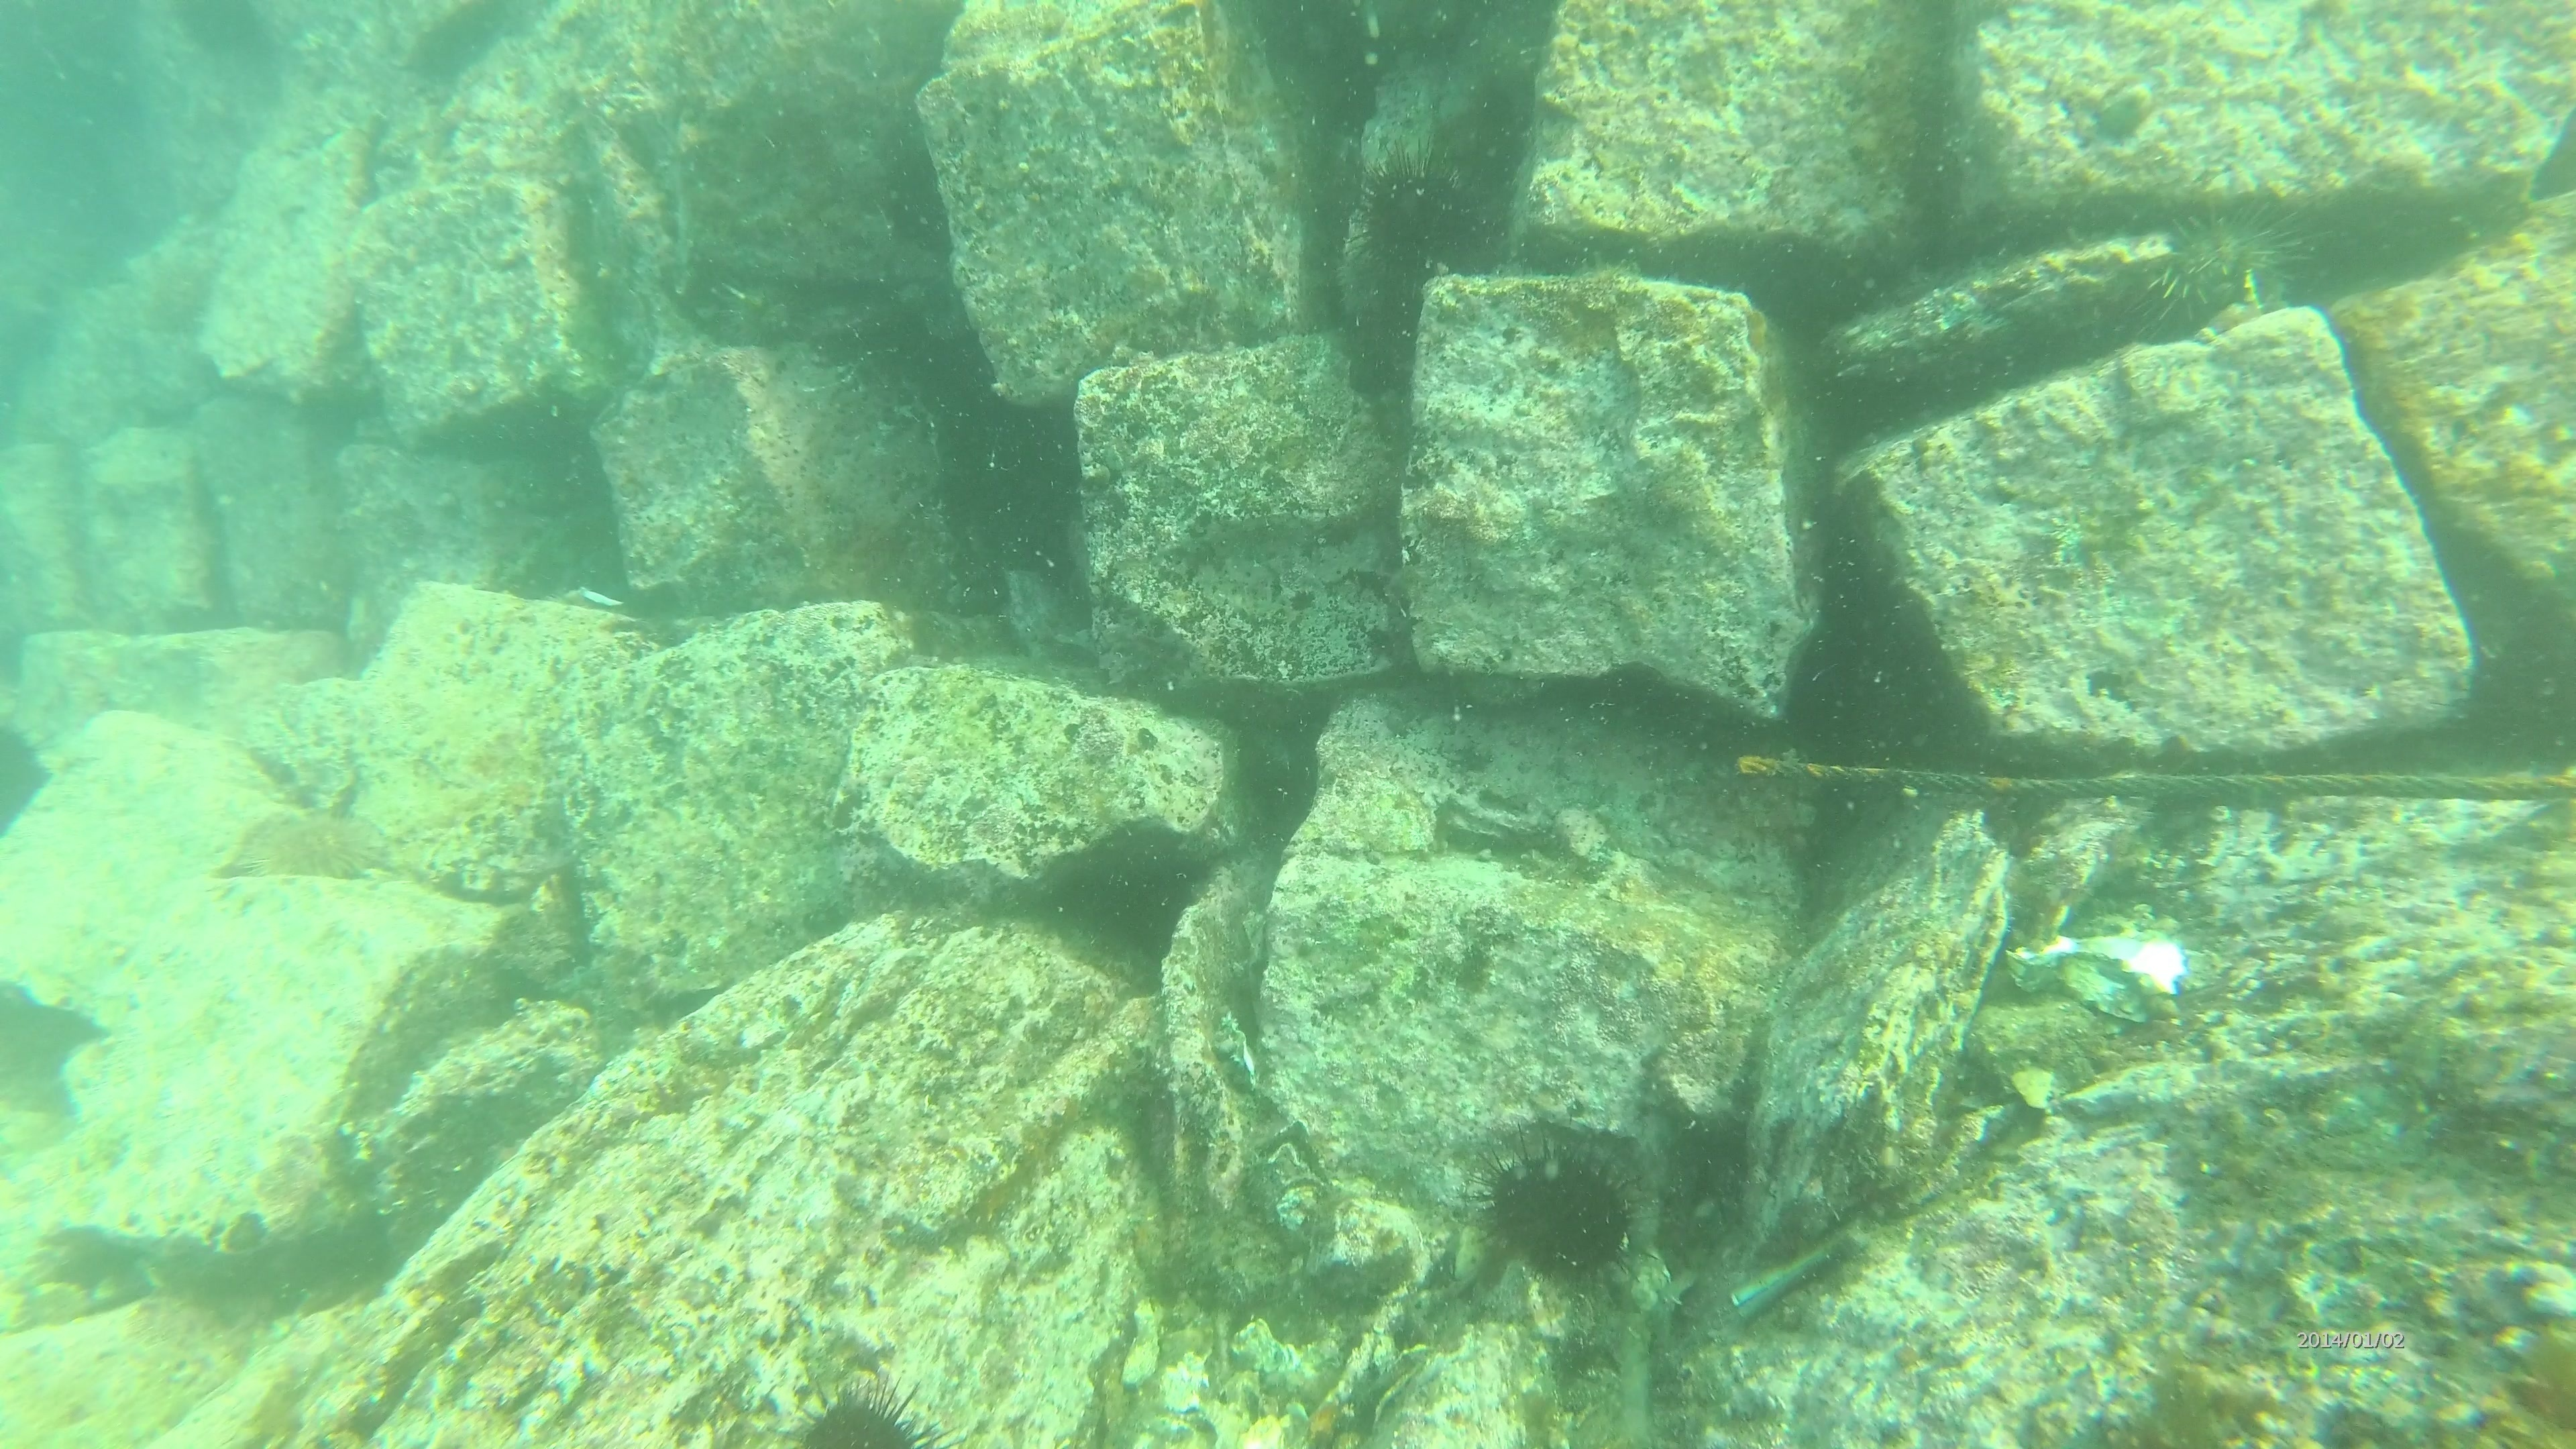echinus: (1470, 1132, 1647, 1293), (1345, 142, 1502, 303), (2134, 195, 2309, 333), (211, 798, 395, 893), (777, 1369, 950, 1442), (163, 0, 283, 69), (0, 713, 57, 842)
